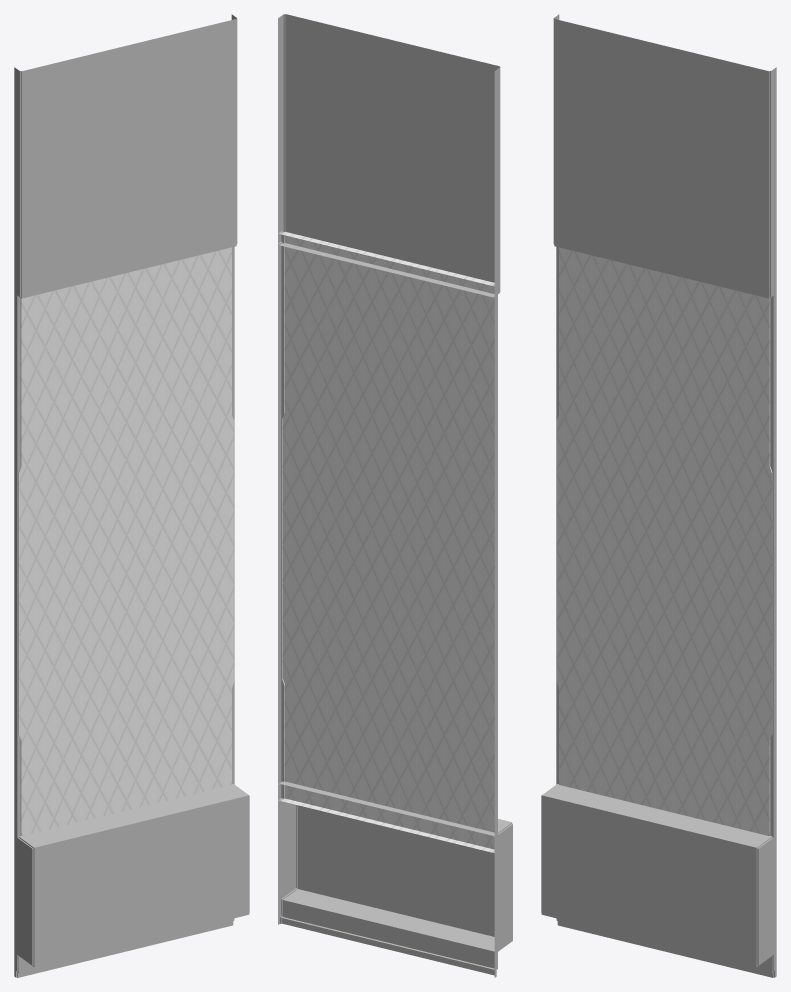
3 views of the same model, side by side, from view 1: azimuth 30°, elevation 25°; view 2: azimuth 150°, elevation 25°; view 3: azimuth 330°, elevation 25° (orthographic).
Parts seen in each view (by area): view 1: M_W_102_b_2x8; view 2: M_W_102_b_2x8; view 3: M_W_102_b_2x8.
Boxes of the visible parts, left/top/right/bottom form: M_W_102_b_2x8: left=14, top=14, right=249, bottom=977; M_W_102_b_2x8: left=278, top=14, right=512, bottom=977; M_W_102_b_2x8: left=541, top=14, right=776, bottom=977.
Bounding box in the file's own units: 2 × 8 × 0.3002.
